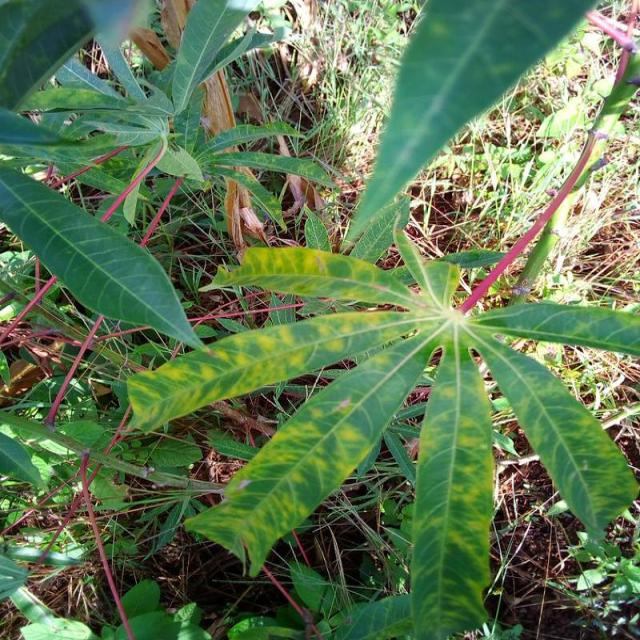cassava leaf: (182, 323, 440, 578), (341, 0, 602, 249), (464, 321, 638, 549), (0, 161, 206, 353), (125, 307, 418, 435), (408, 327, 494, 638)
